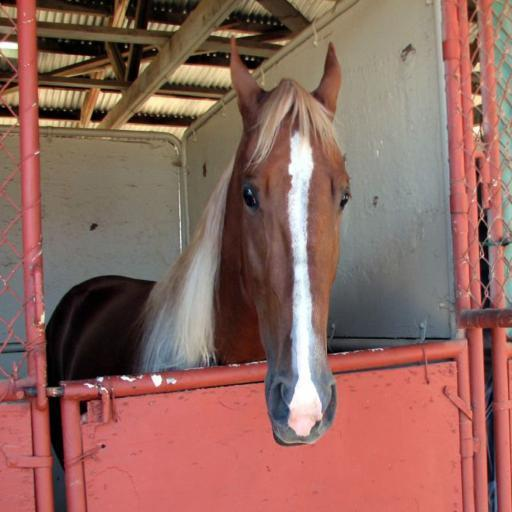horse: (40, 32, 352, 475)
